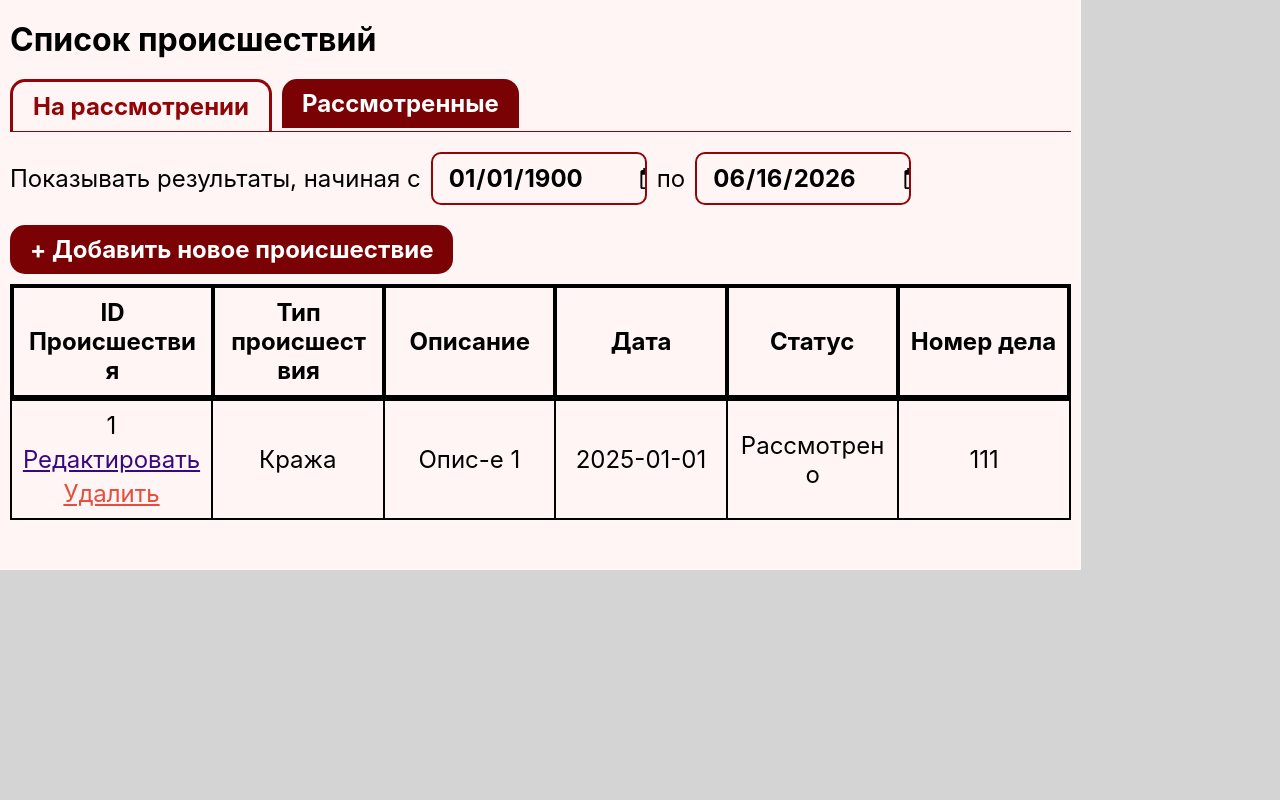
Test: Incidents Page Integration › редактирование происшествия
Check: the button "+ Добавить новое происшествие" is shown, box [10,225,454,274]
Click the button "Редактировать". click: [112, 460]
box: [23,445,200,474]
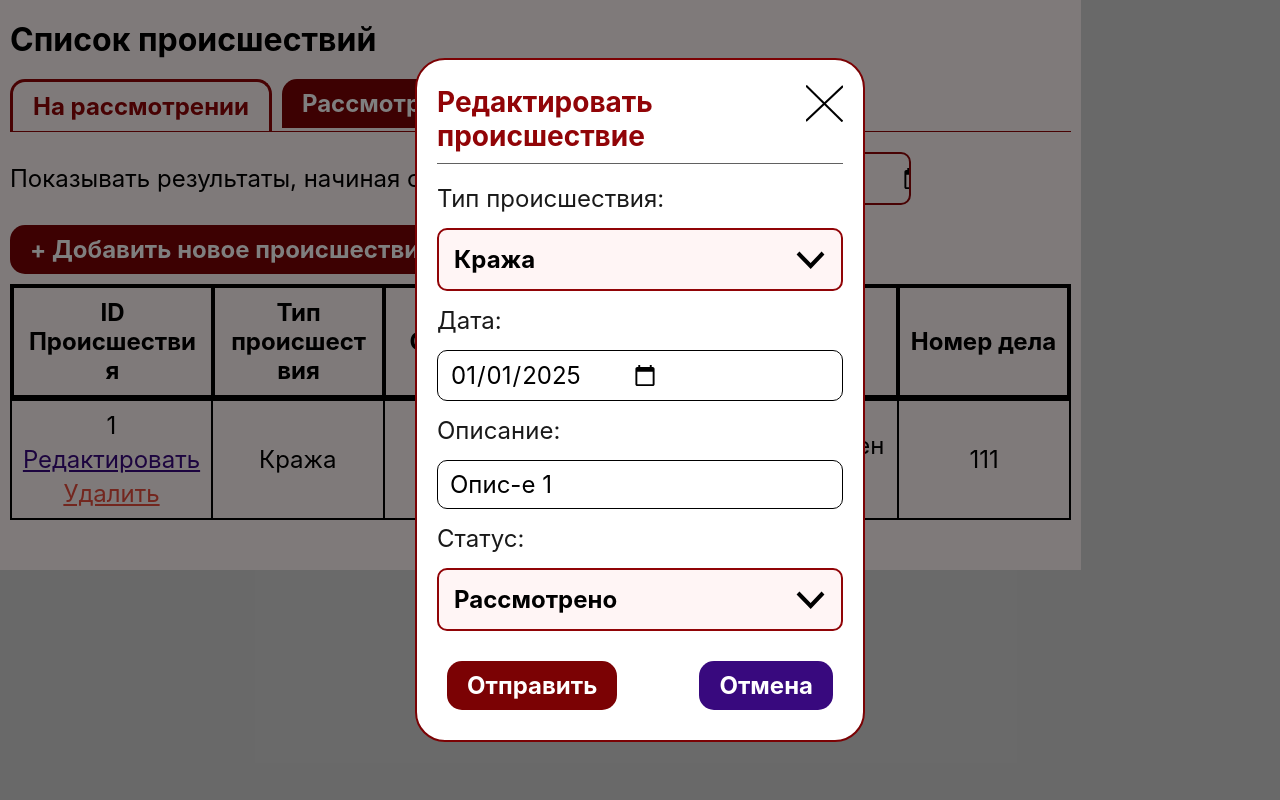
Check: the text "Редактировать происшествие" is shown, box [437,85,653,153]
Replace the text in the field labelled "Описание:" with "Обновленное описание". click: [640, 484]
box: [437,460,843,509]
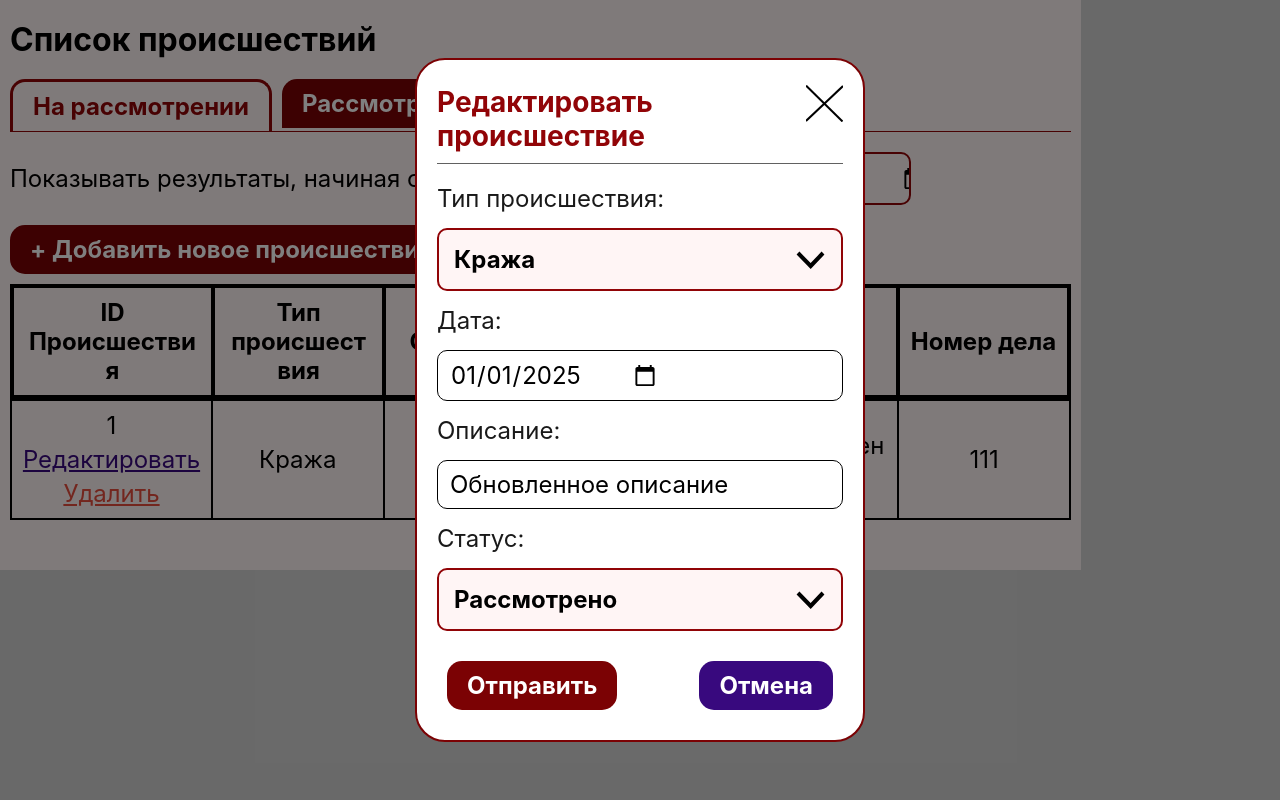
Click the button "Отправить". click: [532, 686]
box: [447,661,617,710]
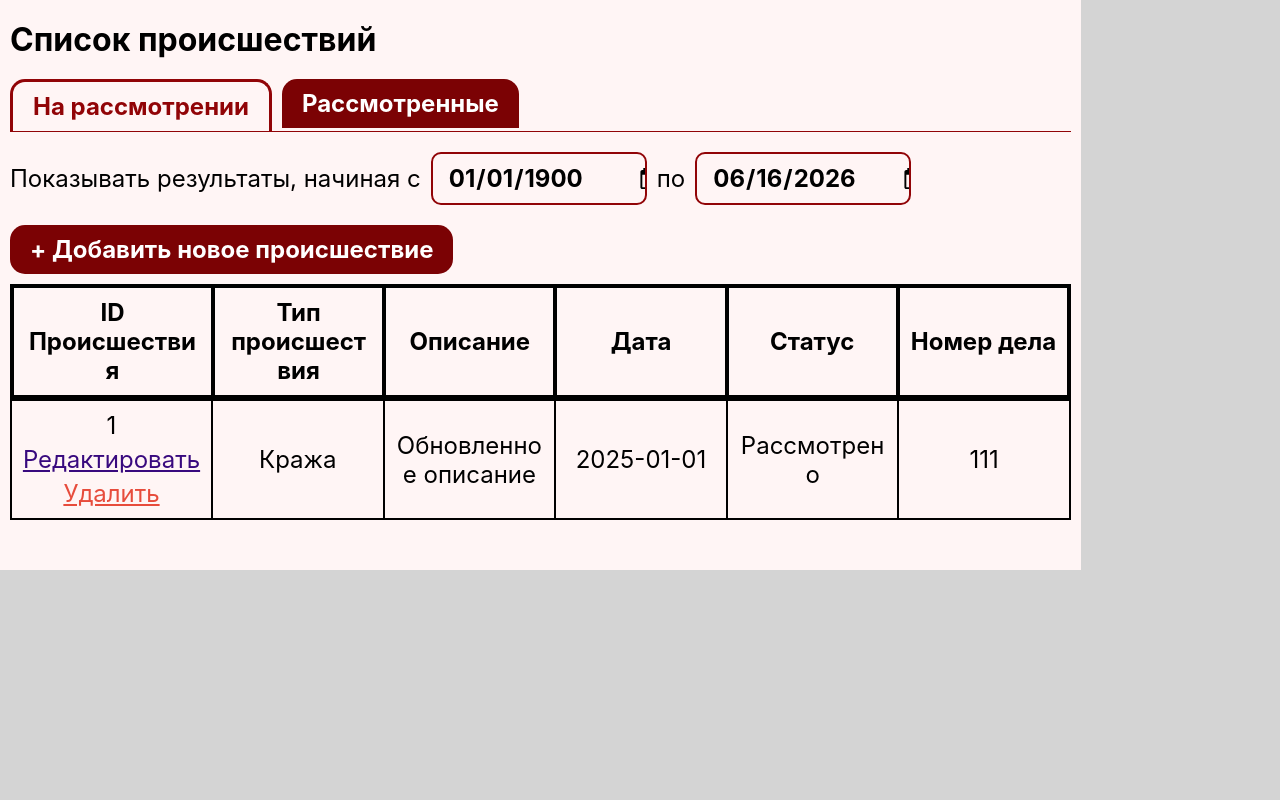
Check: the text "Обновленное описание" is shown, box [384,400,555,519]
